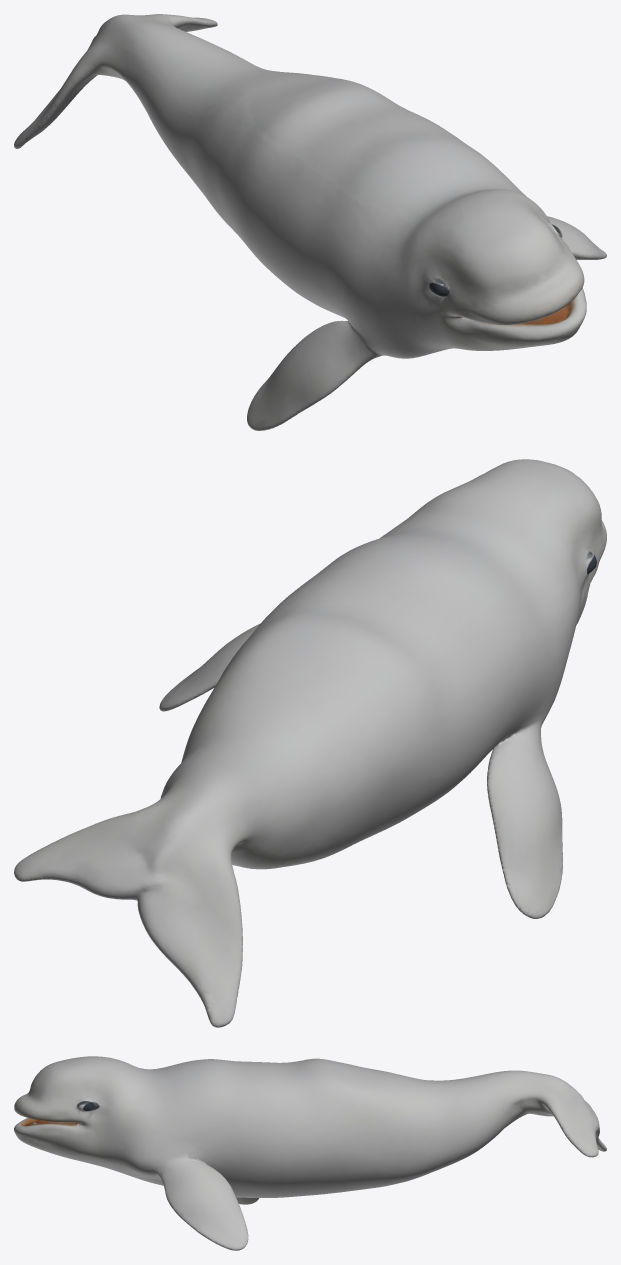
Rendered from Beluga.glb.
3 renders of one model, top to bottom at view 1: azimuth 30°, elevation 25°; view 2: azimuth 150°, elevation 25°; view 3: azimuth 270°, elevation 25°, orthographic. The views are drawn at different scales.
Visible parts, largest first — view 1: tripo_node_97a8dae6-4ee6-45d5-9f1f-996bf2c373de; view 2: tripo_node_97a8dae6-4ee6-45d5-9f1f-996bf2c373de; view 3: tripo_node_97a8dae6-4ee6-45d5-9f1f-996bf2c373de.
Boxes of the visible parts, box(x1,y1,x2,y2) form: tripo_node_97a8dae6-4ee6-45d5-9f1f-996bf2c373de: box(14, 14, 606, 430); tripo_node_97a8dae6-4ee6-45d5-9f1f-996bf2c373de: box(14, 459, 606, 1027); tripo_node_97a8dae6-4ee6-45d5-9f1f-996bf2c373de: box(14, 1056, 606, 1250).
Size of the model in its own units: 0.4616 by 0.3503 by 1.
1 material, 1 textured.
